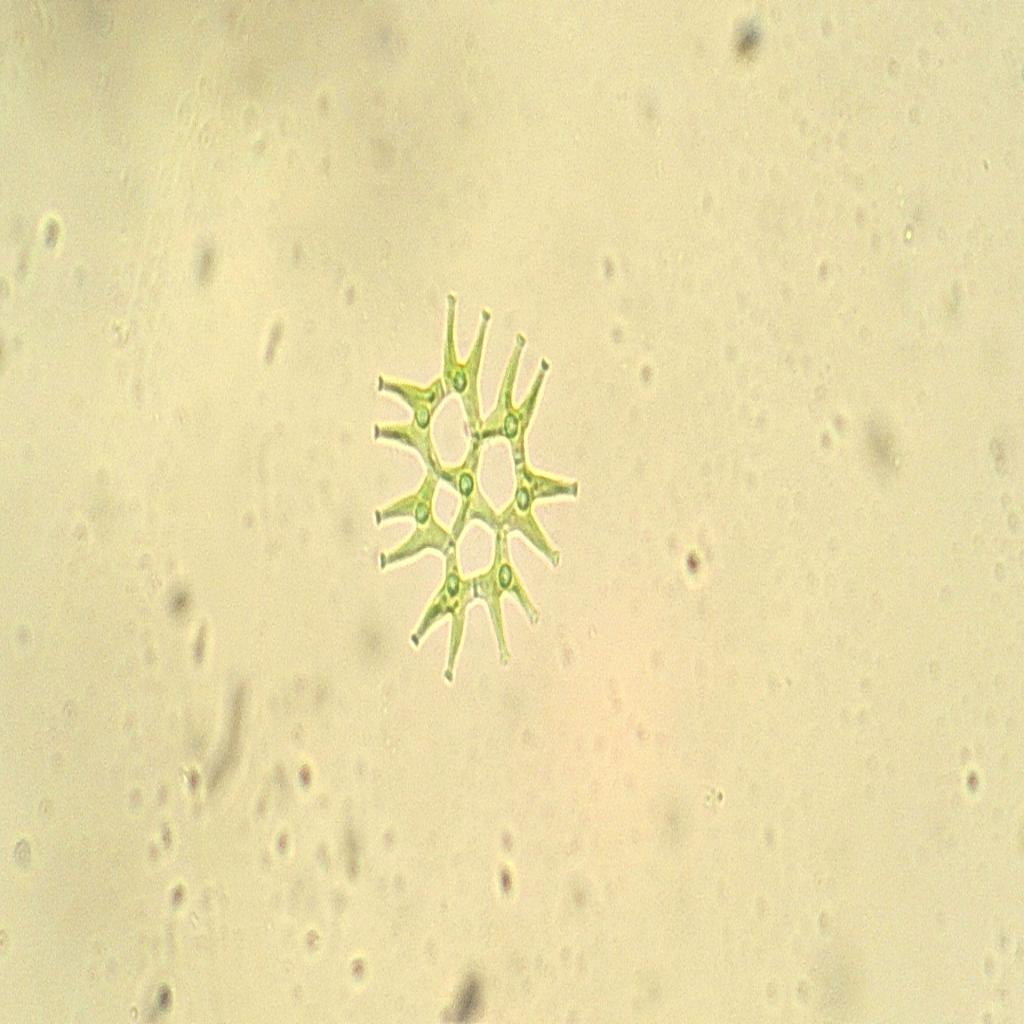Pediastrum_75T: (349, 279, 596, 706)
